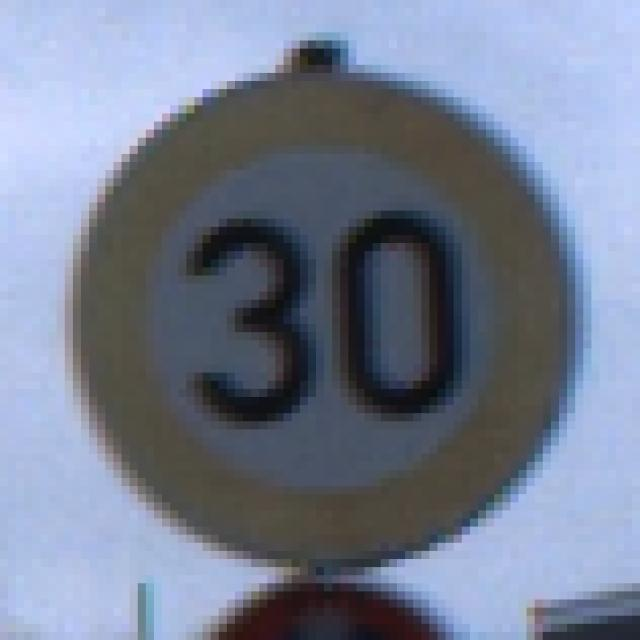Speed Limit -30-: (52, 52, 580, 580)
